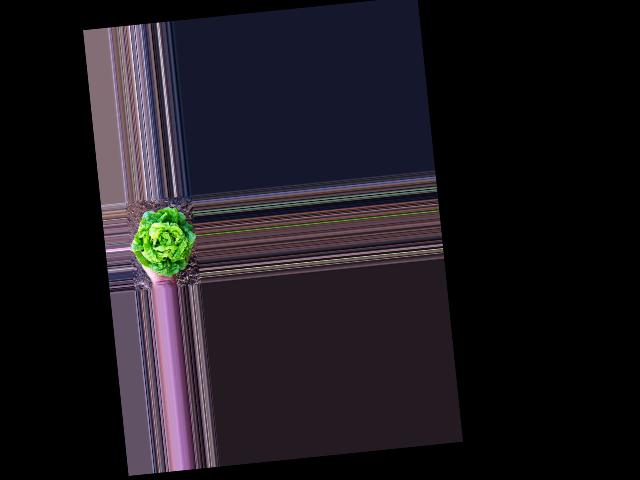lettuce: (129, 203, 197, 275)
